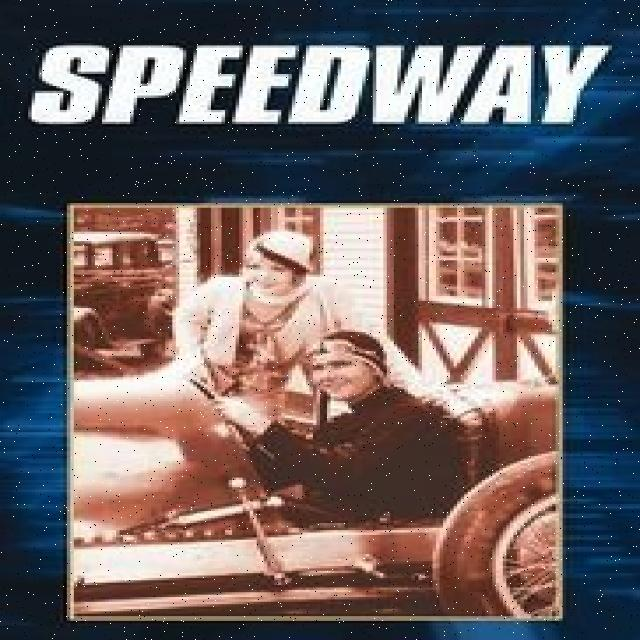movie-judul: (24, 27, 614, 150)
picture: (77, 205, 564, 619)
